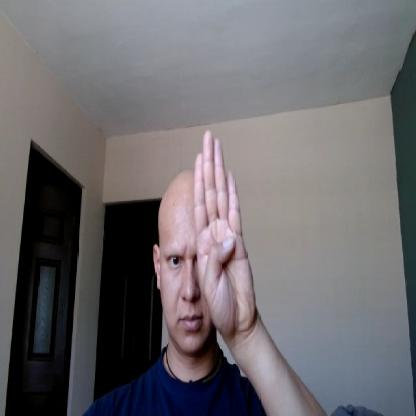B: (193, 131, 256, 338)
